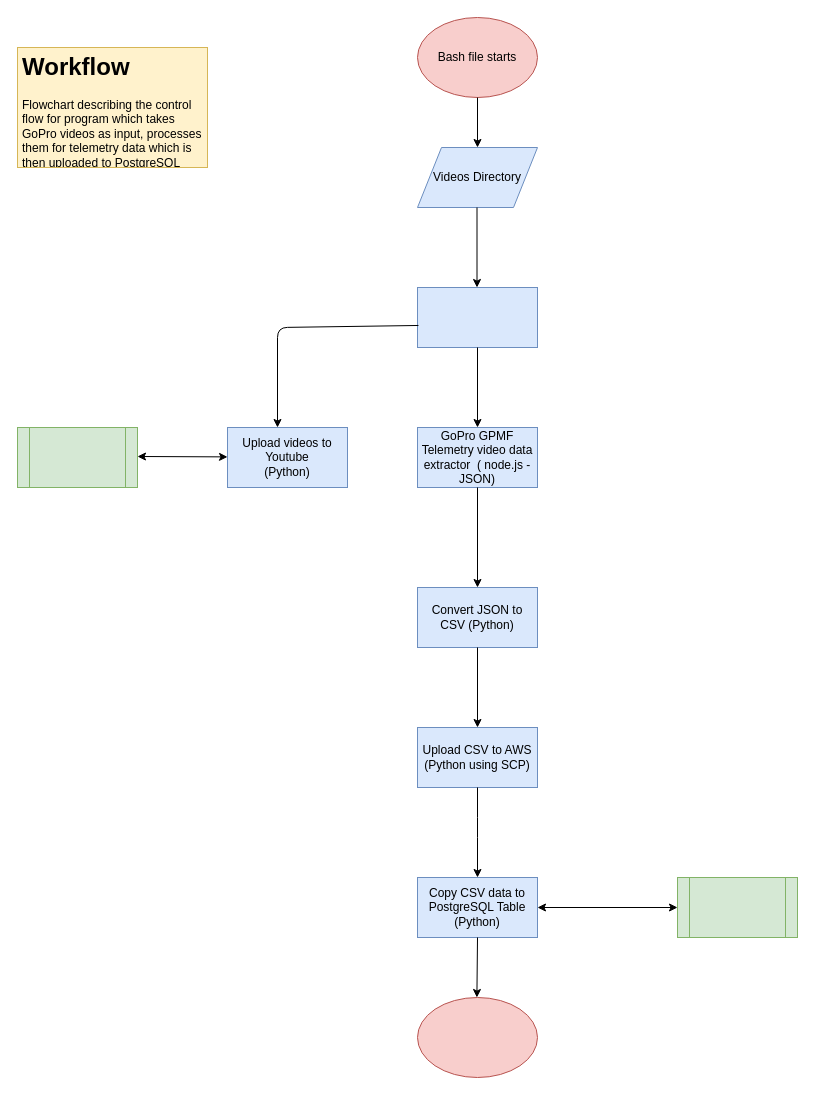
This 815x1095 diagram has some shape labels left out. Each missing label, with the box of its shape:
Bash file ends: (416, 996, 538, 1078)
Generate text file containing path of videos(Python): (416, 286, 538, 348)
mapbox API for displaying trajectory: (16, 426, 138, 488)
node.js API for querying data from Database: (676, 876, 798, 938)
